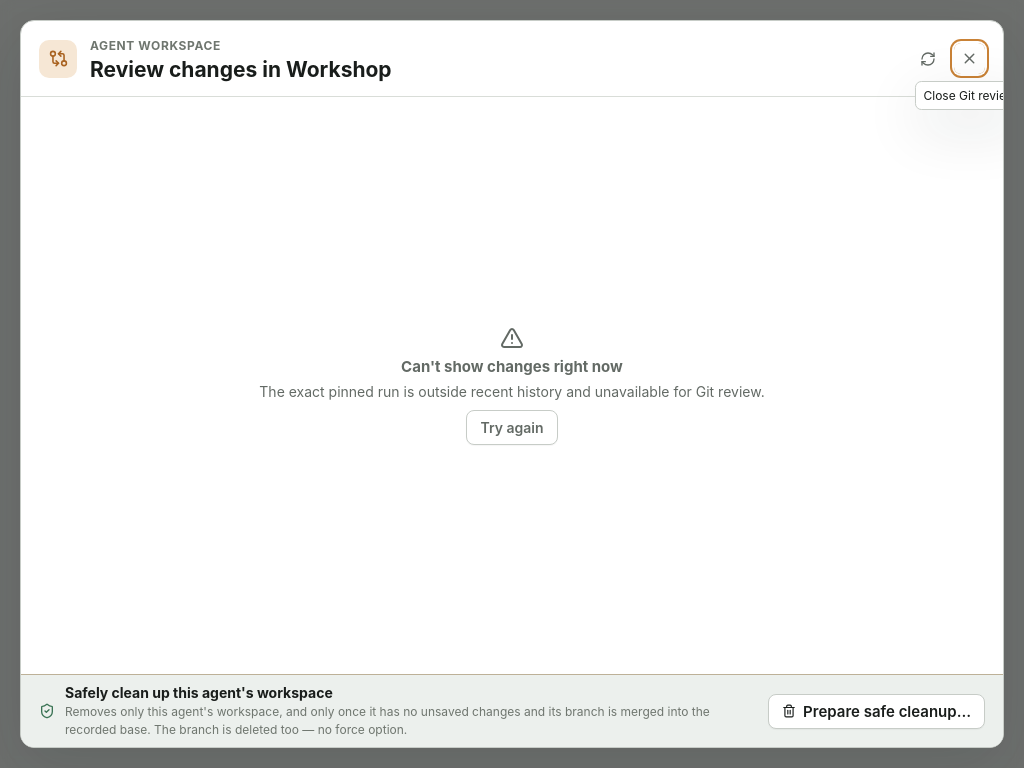
it: GitReviewDialog › reveals recovery for a neutral unavailable target only after main returns a recovery plan
Expected: the text "Agent workspace" is shown, [90, 38, 221, 53]
Expected: the text "interrupted cleanup" is not shown
Click the button "Prepare safe cleanup…" at (877, 711), box [768, 694, 985, 729]
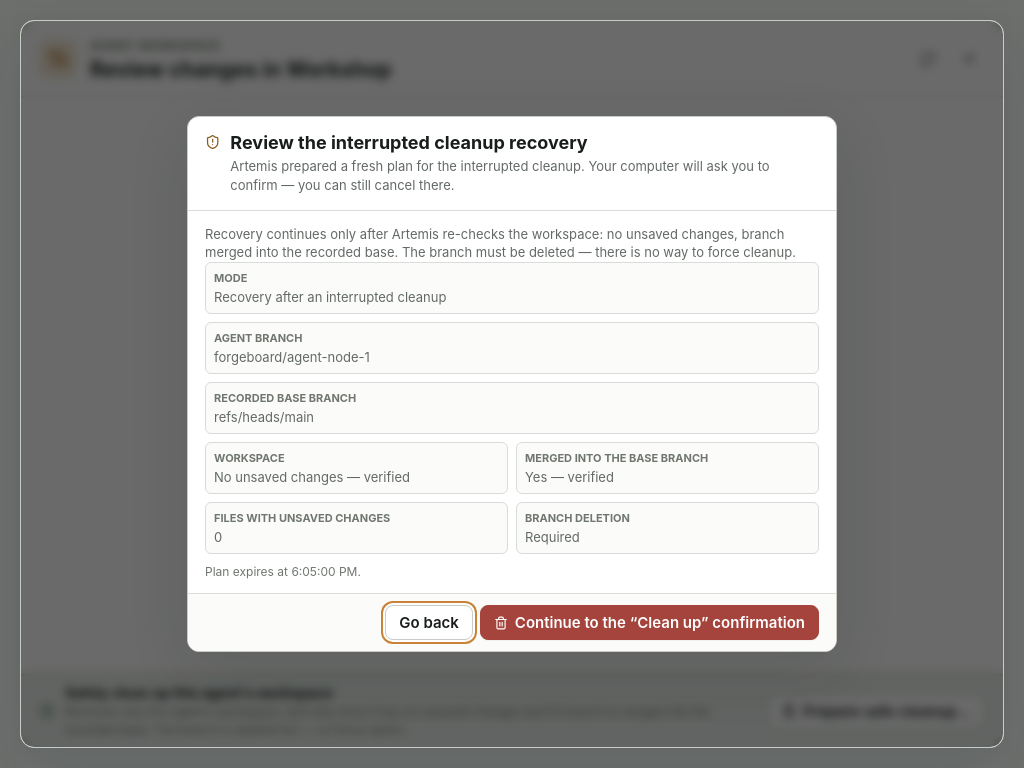
Expected: the dialog "Review the interrupted cleanup recovery" shows "Recovery after an interrupted cleanup", [214, 289, 446, 305]
